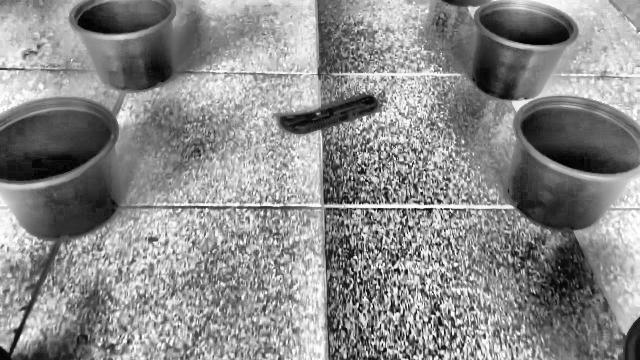pot: (470, 0, 640, 231), (0, 98, 122, 240), (70, 0, 177, 93)
